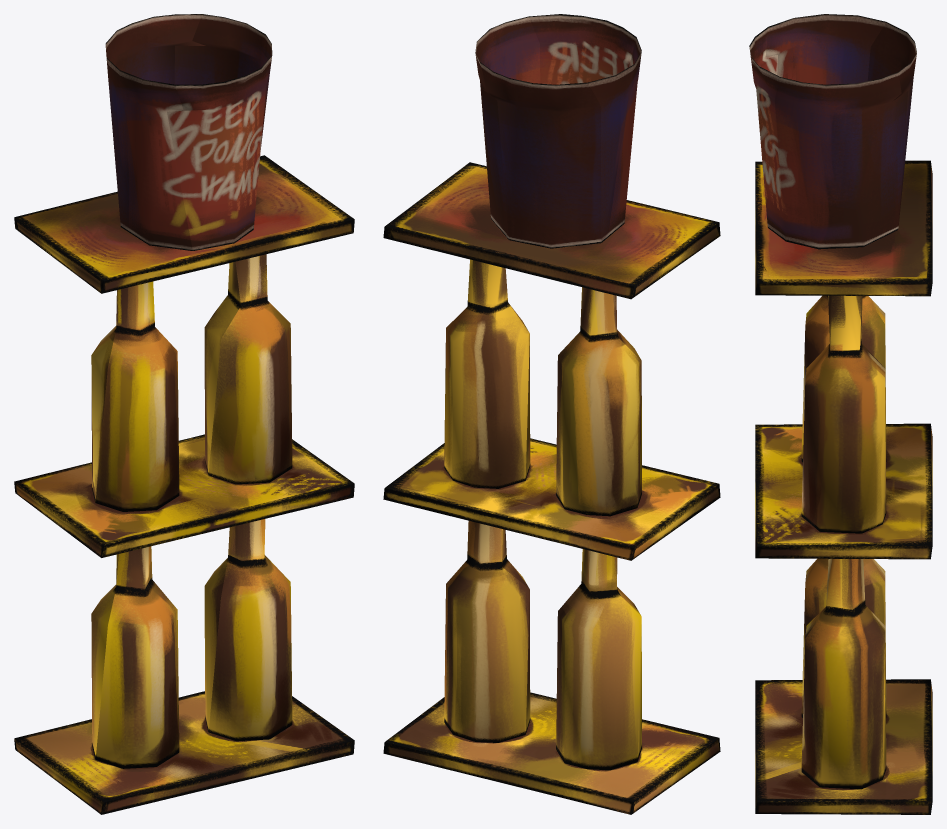
File: beerpong trophie.glb
3 renders of one model, left to right at view 1: azimuth 30°, elevation 25°; view 2: azimuth 150°, elevation 25°; view 3: azimuth 270°, elevation 25°, orthographic.
Visible parts, largest first — view 1: BeerpongTrophy.001; view 2: BeerpongTrophy.001; view 3: BeerpongTrophy.001.
Part boxes in pixels (x1,y1,x2,y2): BeerpongTrophy.001: [14, 14, 354, 814]; BeerpongTrophy.001: [383, 14, 720, 814]; BeerpongTrophy.001: [749, 14, 932, 814].
Bounding box in the file's own units: 4.22 × 11.25 × 2.66.
1 material, 1 textured.
